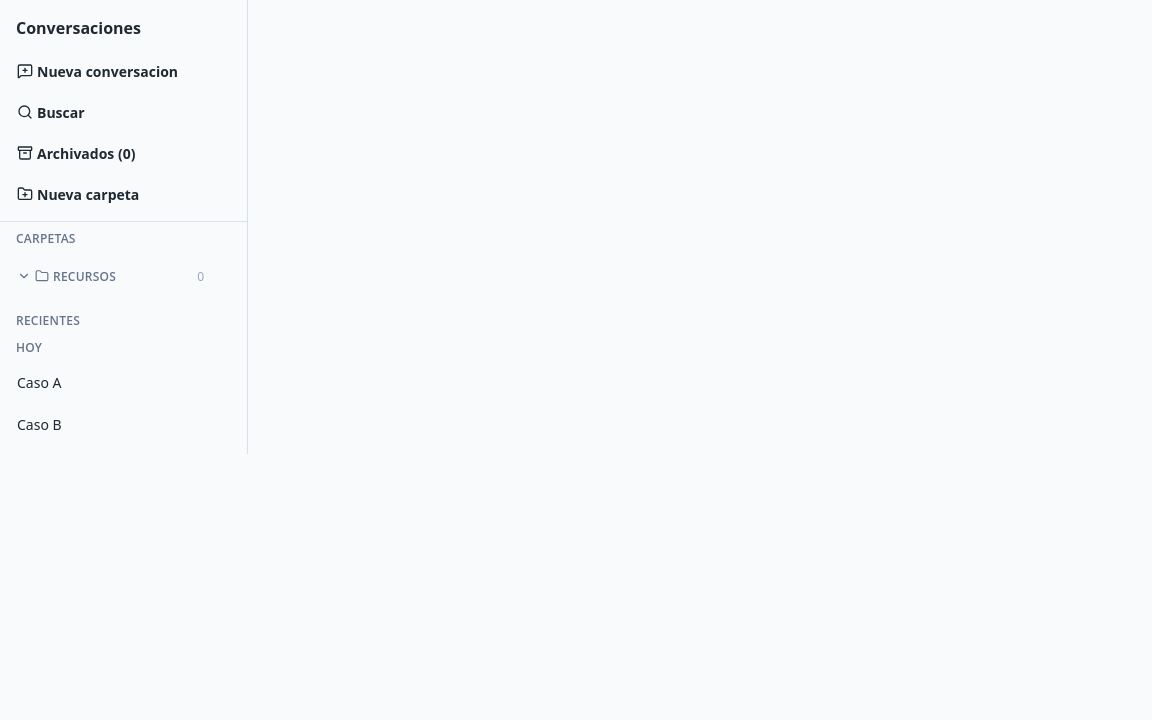
Test: ChatSidebar › abre el modal de busqueda al pulsar Buscar
Click the button "Buscar" at [124, 112], box x1=8 y1=94 x2=239 y2=131
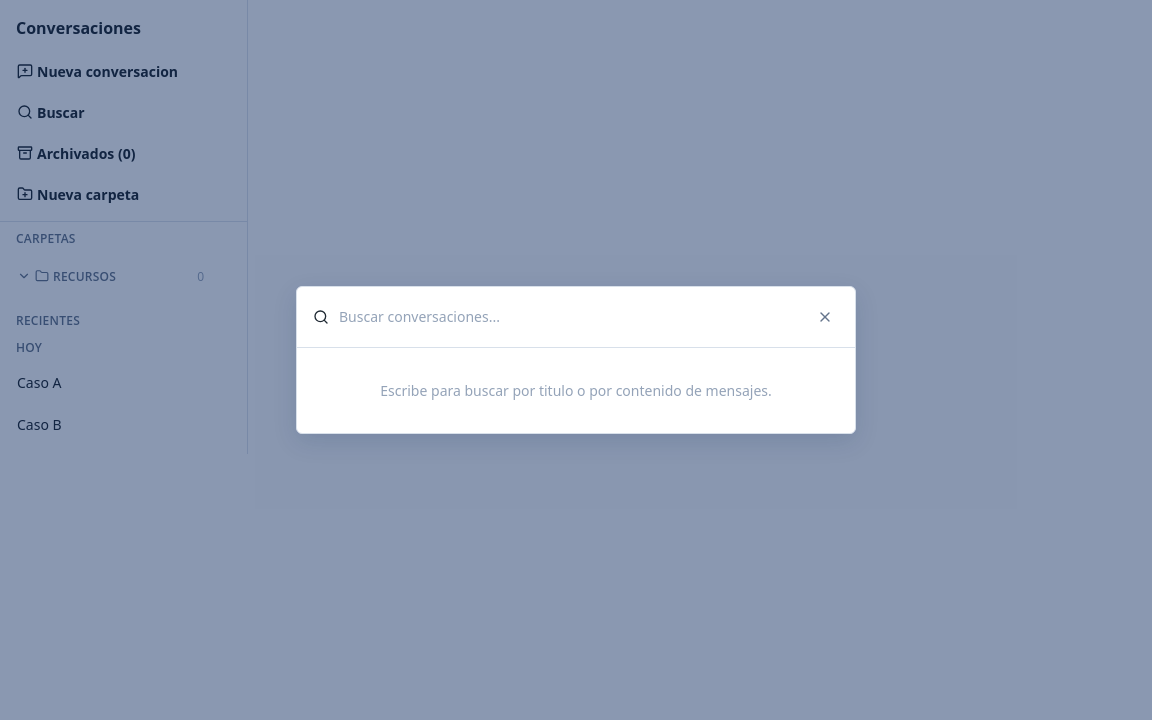
Check: the dialog named "buscar conversaciones" is shown
